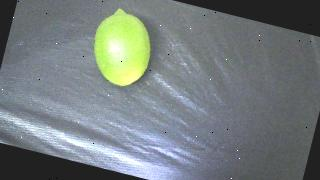LOCAL: (85, 5, 159, 91)
